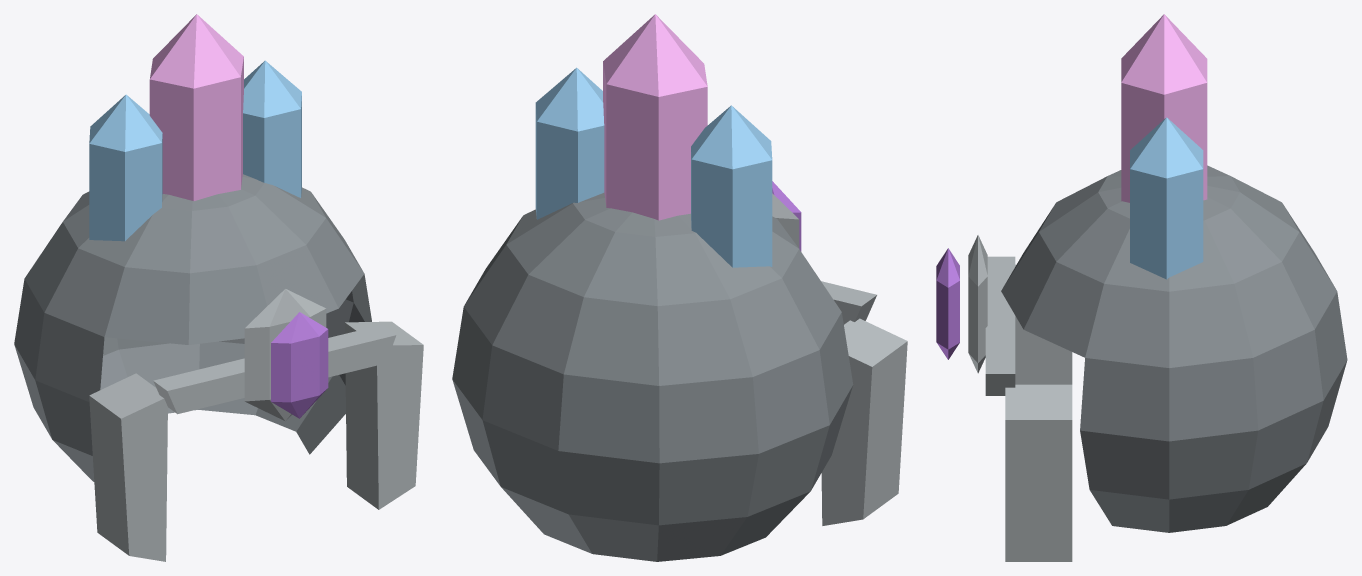
3 renders of one model, left to right at view 1: azimuth 30°, elevation 25°; view 2: azimuth 150°, elevation 25°; view 3: azimuth 270°, elevation 25°, orthographic. The views are drawn at different scales.
Visible parts, largest first — view 1: helmet_dome, crystal_center, guard_L, guard_R, crystal_left, crystal_right, brow_rim, forehead_gem, gem_setting; view 2: helmet_dome, crystal_center, guard_L, crystal_left, crystal_right, brow_rim, gem_setting; view 3: helmet_dome, guard_R, crystal_right, crystal_center, brow_rim, guard_L, gem_setting, forehead_gem.
Part boxes in pixels (<box>): helmet_dome: <box>14,174,371,481</box>; crystal_center: <box>149,14,243,201</box>; guard_L: <box>89,373,167,561</box>; guard_R: <box>345,321,423,509</box>; crystal_left: <box>89,94,162,241</box>; crystal_right: <box>243,60,301,197</box>; brow_rim: <box>153,325,396,414</box>; forehead_gem: <box>271,312,328,418</box>; gem_setting: <box>244,289,326,421</box>; helmet_dome: <box>452,193,853,561</box>; crystal_center: <box>603,14,707,220</box>; guard_L: <box>821,318,907,525</box>; crystal_left: <box>691,105,772,267</box>; crystal_right: <box>535,67,604,219</box>; brow_rim: <box>821,281,876,324</box>; gem_setting: <box>772,193,799,248</box>; helmet_dome: <box>1001,165,1347,532</box>; guard_R: <box>1005,384,1072,561</box>; crystal_right: <box>1130,117,1203,279</box>; crystal_center: <box>1121,14,1207,202</box>; brow_rim: <box>985,256,1015,395</box>; guard_L: <box>1015,264,1072,384</box>; gem_setting: <box>968,235,987,373</box>; forehead_gem: <box>936,248,959,359</box>.
Size of the model in its own units: 1.56 by 2.18 by 1.66.
